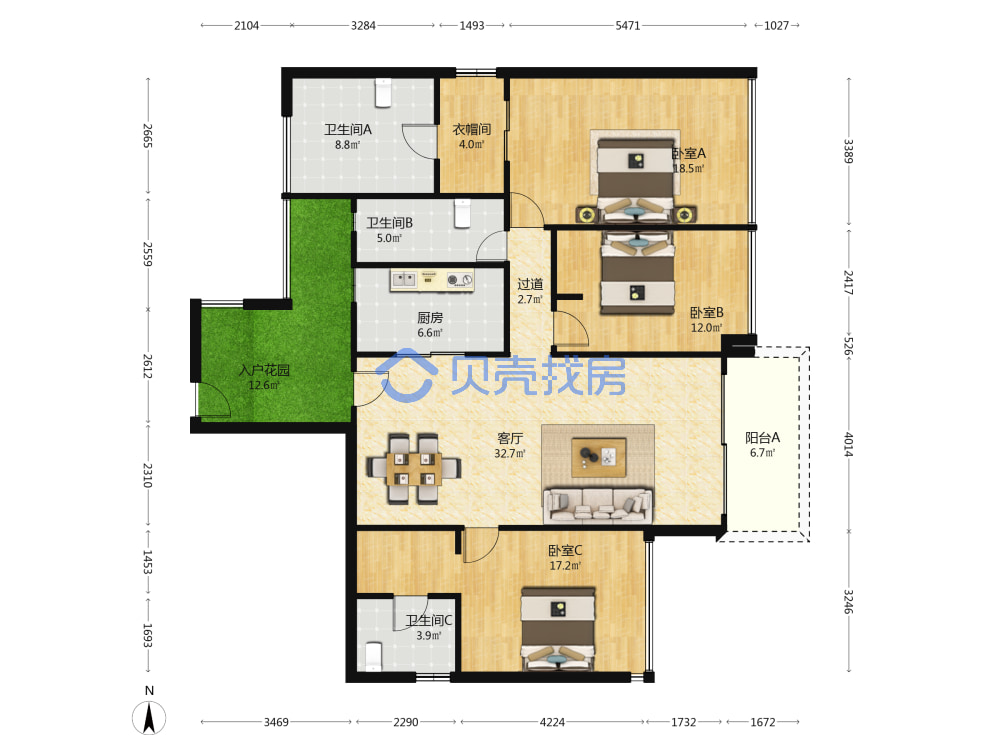DOOR(单开门): (548, 306, 594, 349), (397, 121, 442, 161), (506, 187, 548, 229), (389, 591, 431, 633), (348, 369, 393, 408), (192, 379, 233, 421), (460, 523, 500, 565), (472, 230, 513, 263)
DOOR（移门）: (715, 370, 731, 518), (386, 346, 472, 362), (502, 99, 514, 163)
